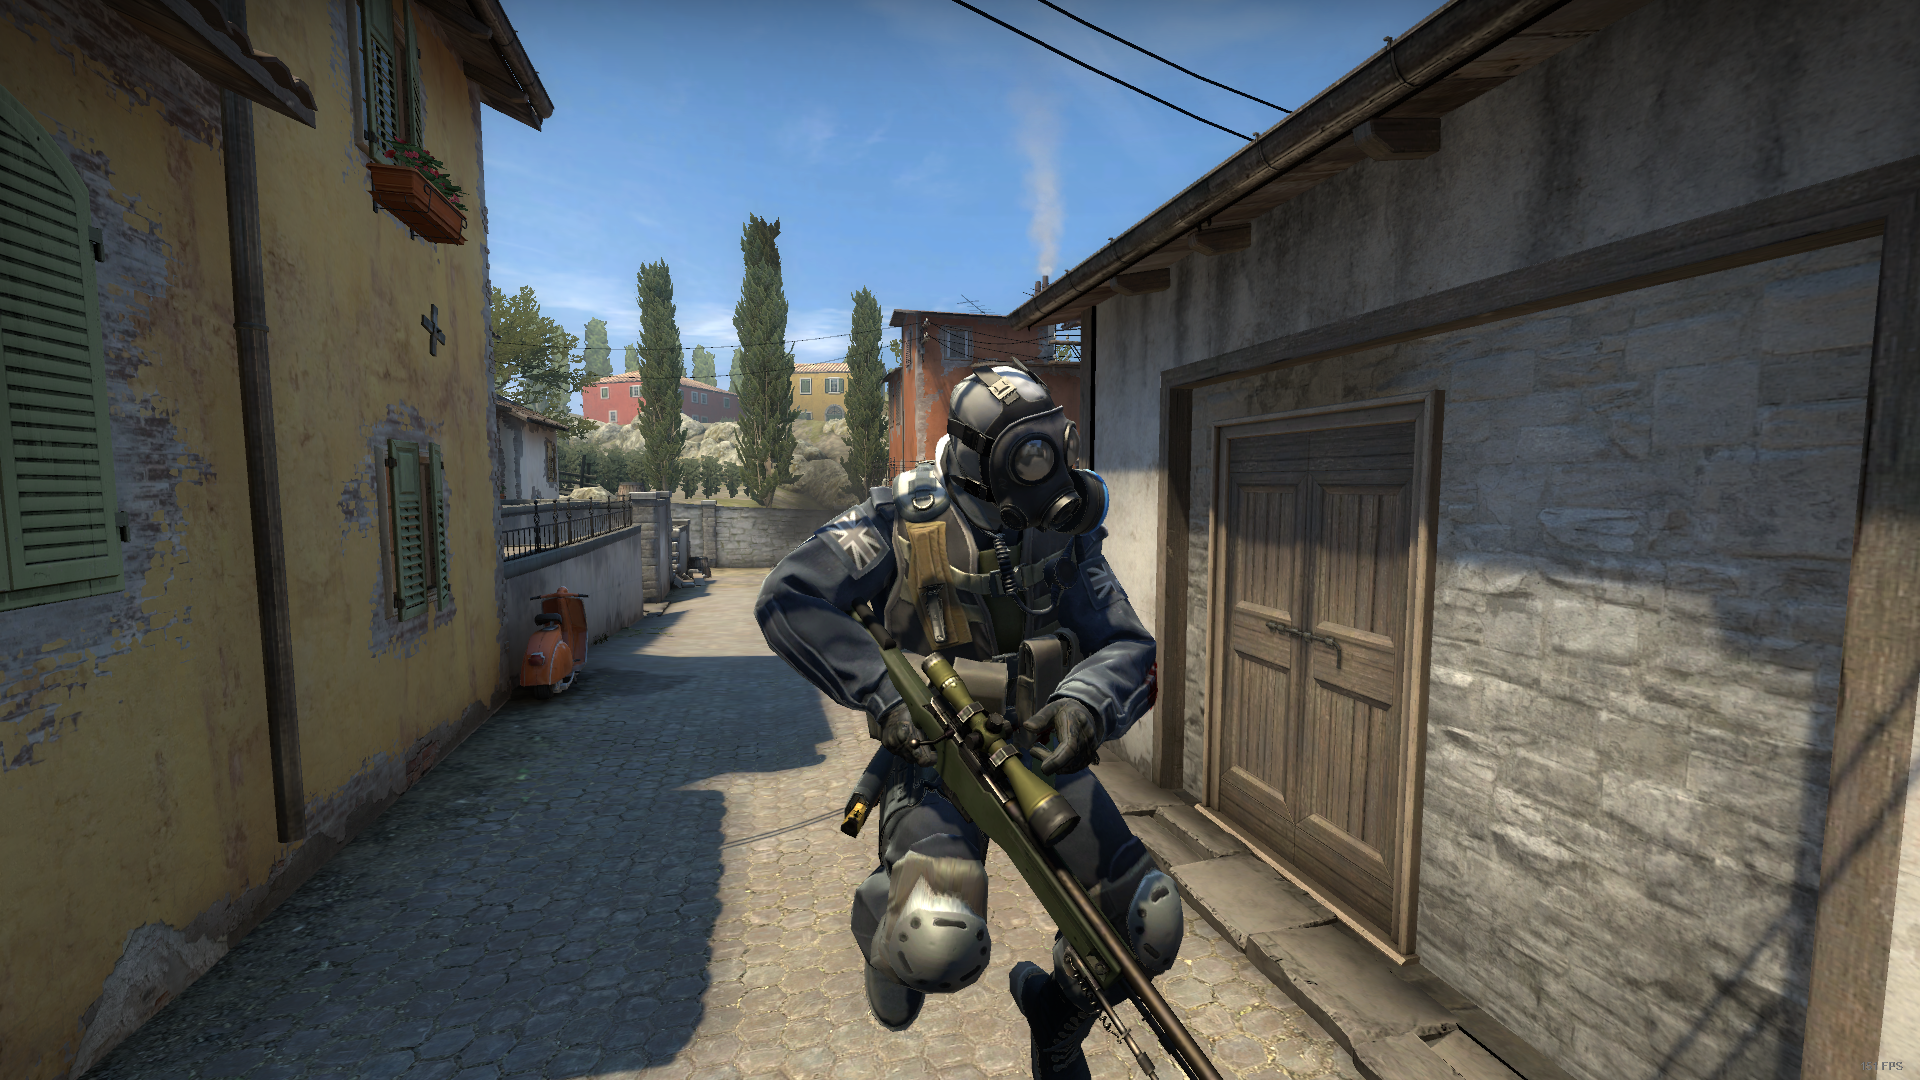ct: (756, 363, 1183, 1080)
